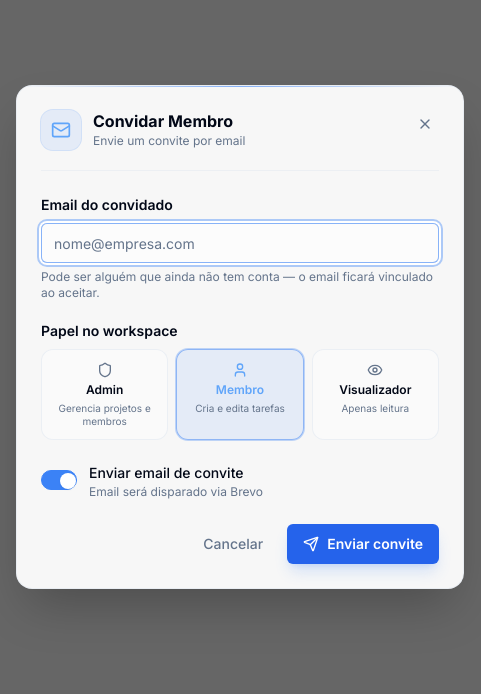
Test: InviteDialog — resultado do envio do email › confirma o envio só quando o Brevo aceitou
The width and height of the screenshot is (481, 694).
Type "nova@empresa.com" into the field with placeholder "nome@empresa.com". click: coordinates (240, 243)
box: x1=41 y1=223 x2=439 y2=263
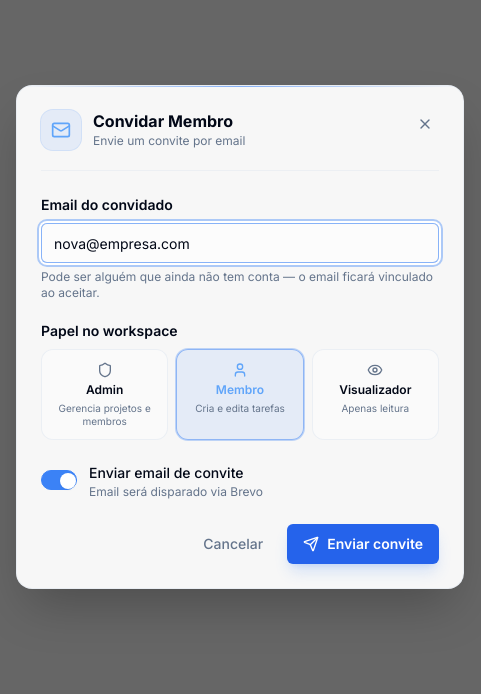
Submit the form with placeholder "@", box x1=17 y1=171 x2=463 y2=588
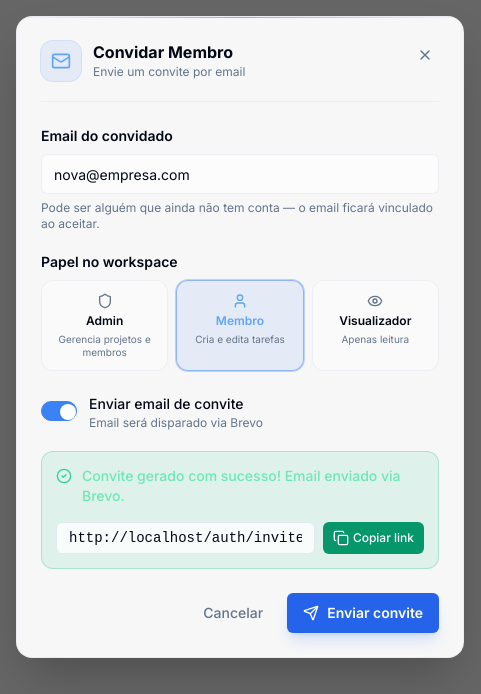
Result: the text "Convite gerado com sucesso! Email enviado via Brevo." is shown at x1=82 y1=466 x2=424 y2=506
